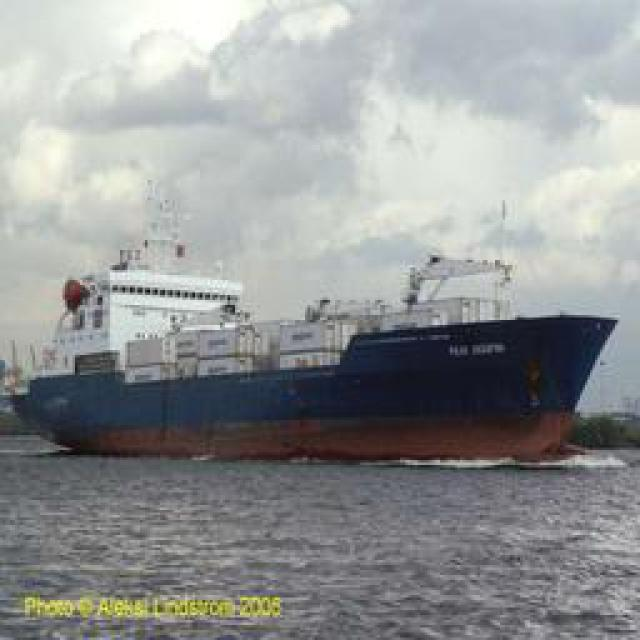Ship: (6, 181, 631, 461)
